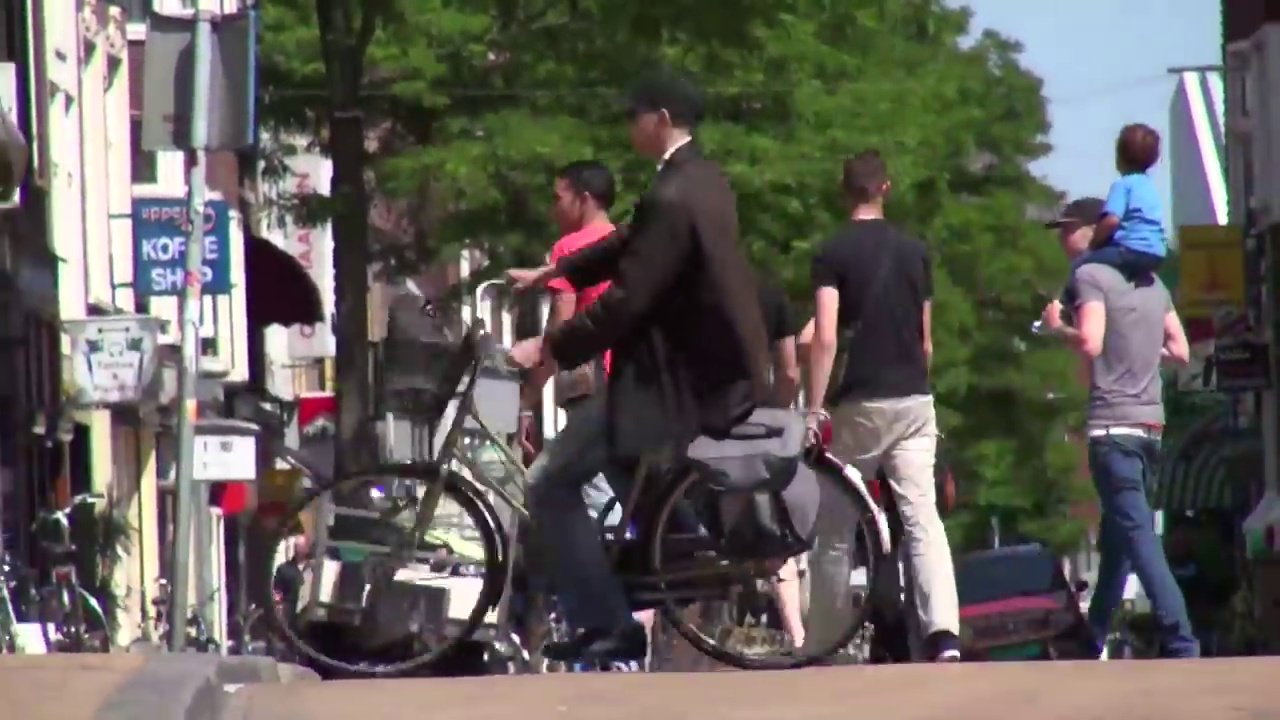cyclist_side: (251, 71, 887, 672)
